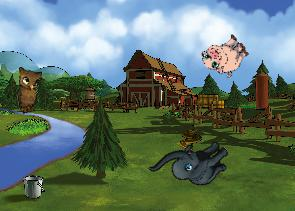elephant: (147, 119, 236, 207)
owl: (13, 64, 48, 114)
pig: (197, 27, 253, 83)
